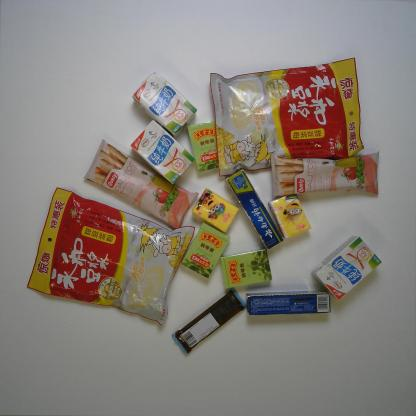Candy: (182, 221, 230, 279), (218, 246, 276, 288), (188, 120, 224, 172)
Chocolate: (172, 283, 246, 362)
Dessert: (78, 137, 192, 229), (264, 148, 388, 204)
Instant Drink: (25, 186, 198, 328), (207, 56, 365, 179)
Milk: (307, 235, 383, 302), (130, 122, 196, 184), (132, 76, 196, 133)
Personal Hygiene: (222, 169, 283, 249), (246, 292, 332, 317)
Tissue: (269, 191, 313, 240), (190, 187, 237, 232)
